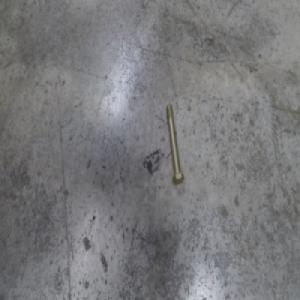Bolt: (166, 104, 183, 184)
